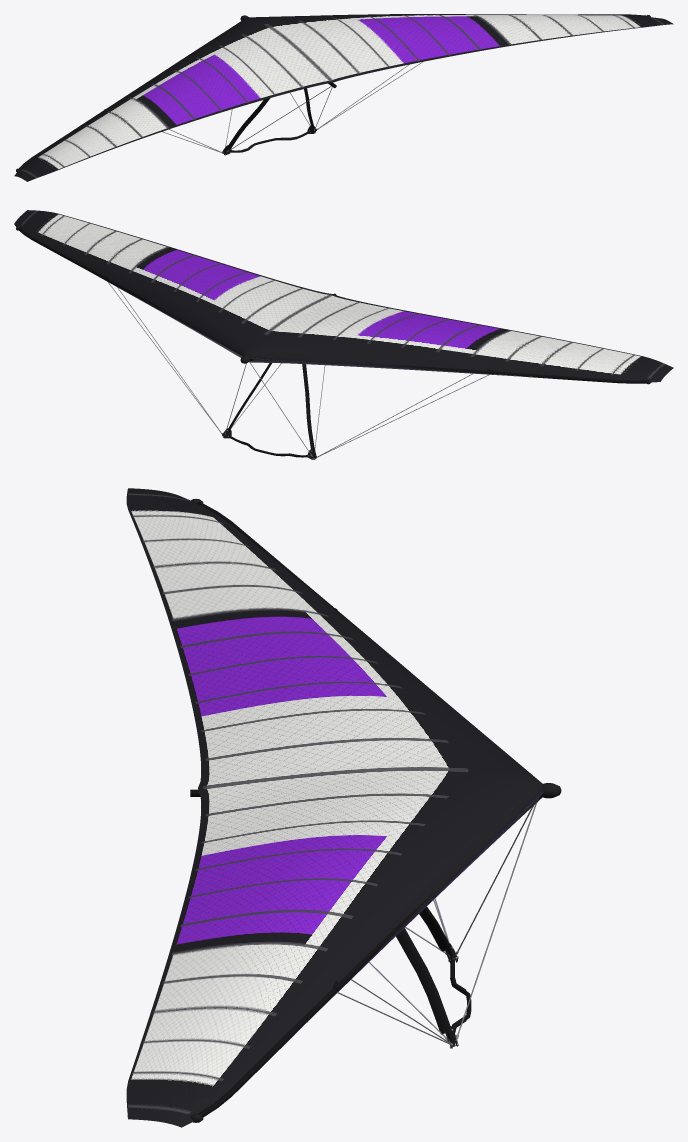
File: glider_moyes_litespeed_s.glb
The picture shows the model from 3 angles, top to bottom: view 1: azimuth 30°, elevation 25°; view 2: azimuth 150°, elevation 25°; view 3: azimuth 270°, elevation 25°; orthographic projection. The views are drawn at different scales.
Parts seen in each view (by area): view 1: Sail, ControlFrame, Frame; view 2: Sail, ControlFrame, Frame; view 3: Sail, ControlFrame, Frame.
Part boxes in pixels (x1=…): Sail: x1=14, y1=14, x2=673, y2=181; ControlFrame: x1=162, y1=61, x2=423, y2=155; Frame: x1=16, y1=14, x2=650, y2=171; Sail: x1=14, y1=210, x2=673, y2=382; ControlFrame: x1=108, y1=282, x2=489, y2=459; Frame: x1=16, y1=225, x2=651, y2=384; Sail: x1=126, y1=488, x2=543, y2=1127; ControlFrame: x1=337, y1=803, x2=536, y2=1048; Frame: x1=190, y1=498, x2=561, y2=1122.
Size of the model in its own units: 10 by 1.79 by 2.91.
Materials: 8 (1 with a texture image).
